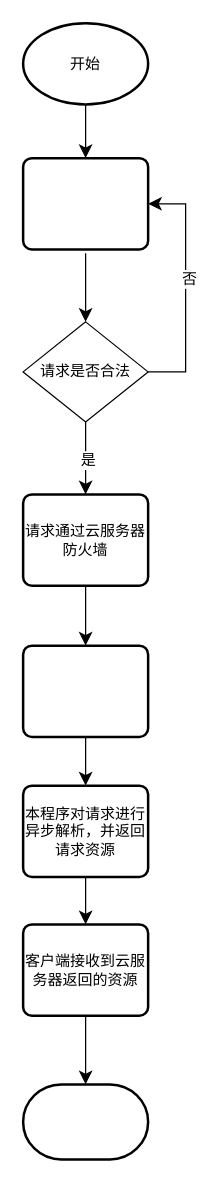
Some shapes in this 220 by 1181 pixel diagram are drawn without their labels. Here are the shapes that lost their labels. From the top down, the centre of each, then its label:
pixel 85 203: 客户端发起HTTP请求，申请获得服务
pixel 85 691: Web服务器接受并处理请求
pixel 85 1121: 结束
